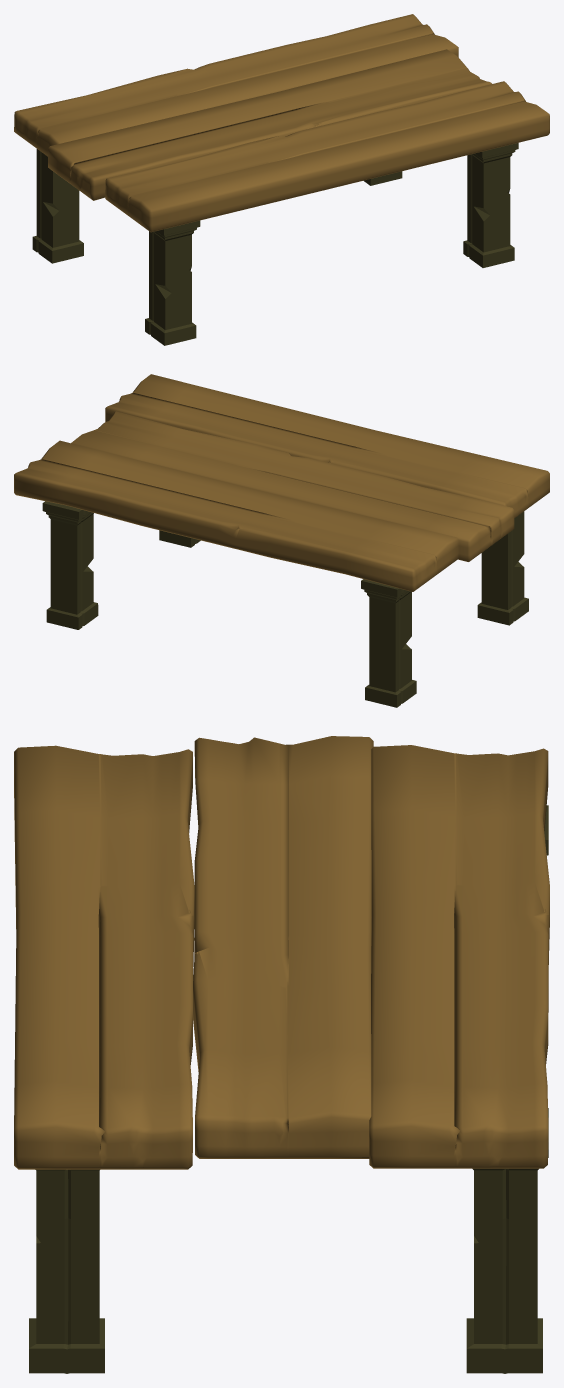
Rendered from table.fbx.
3 views of the same model, one above another, from view 1: azimuth 30°, elevation 25°; view 2: azimuth 150°, elevation 25°; view 3: azimuth 270°, elevation 25° (orthographic). The views are drawn at different scales.
Parts seen in each view (by area): view 1: Cube.002, Cube.004, Cube.003, Cube.005; view 2: Cube.002, Cube.006, Cube.005, Cube.003; view 3: Cube.002, Cube.006, Cube.004.
Part boxes in pixels (box(x1,y1,x2,y2)): Cube.002: box(14, 14, 549, 232); Cube.004: box(463, 143, 518, 267); Cube.003: box(145, 220, 200, 345); Cube.005: box(32, 149, 83, 263); Cube.002: box(14, 374, 549, 591); Cube.006: box(42, 501, 98, 629); Cube.005: box(361, 579, 416, 707); Cube.003: box(477, 511, 528, 625); Cube.002: box(14, 736, 549, 1169); Cube.006: box(466, 1108, 548, 1373); Cube.004: box(29, 1169, 104, 1373).
Bounding box in the file's own units: 209 × 70.14 × 121.
